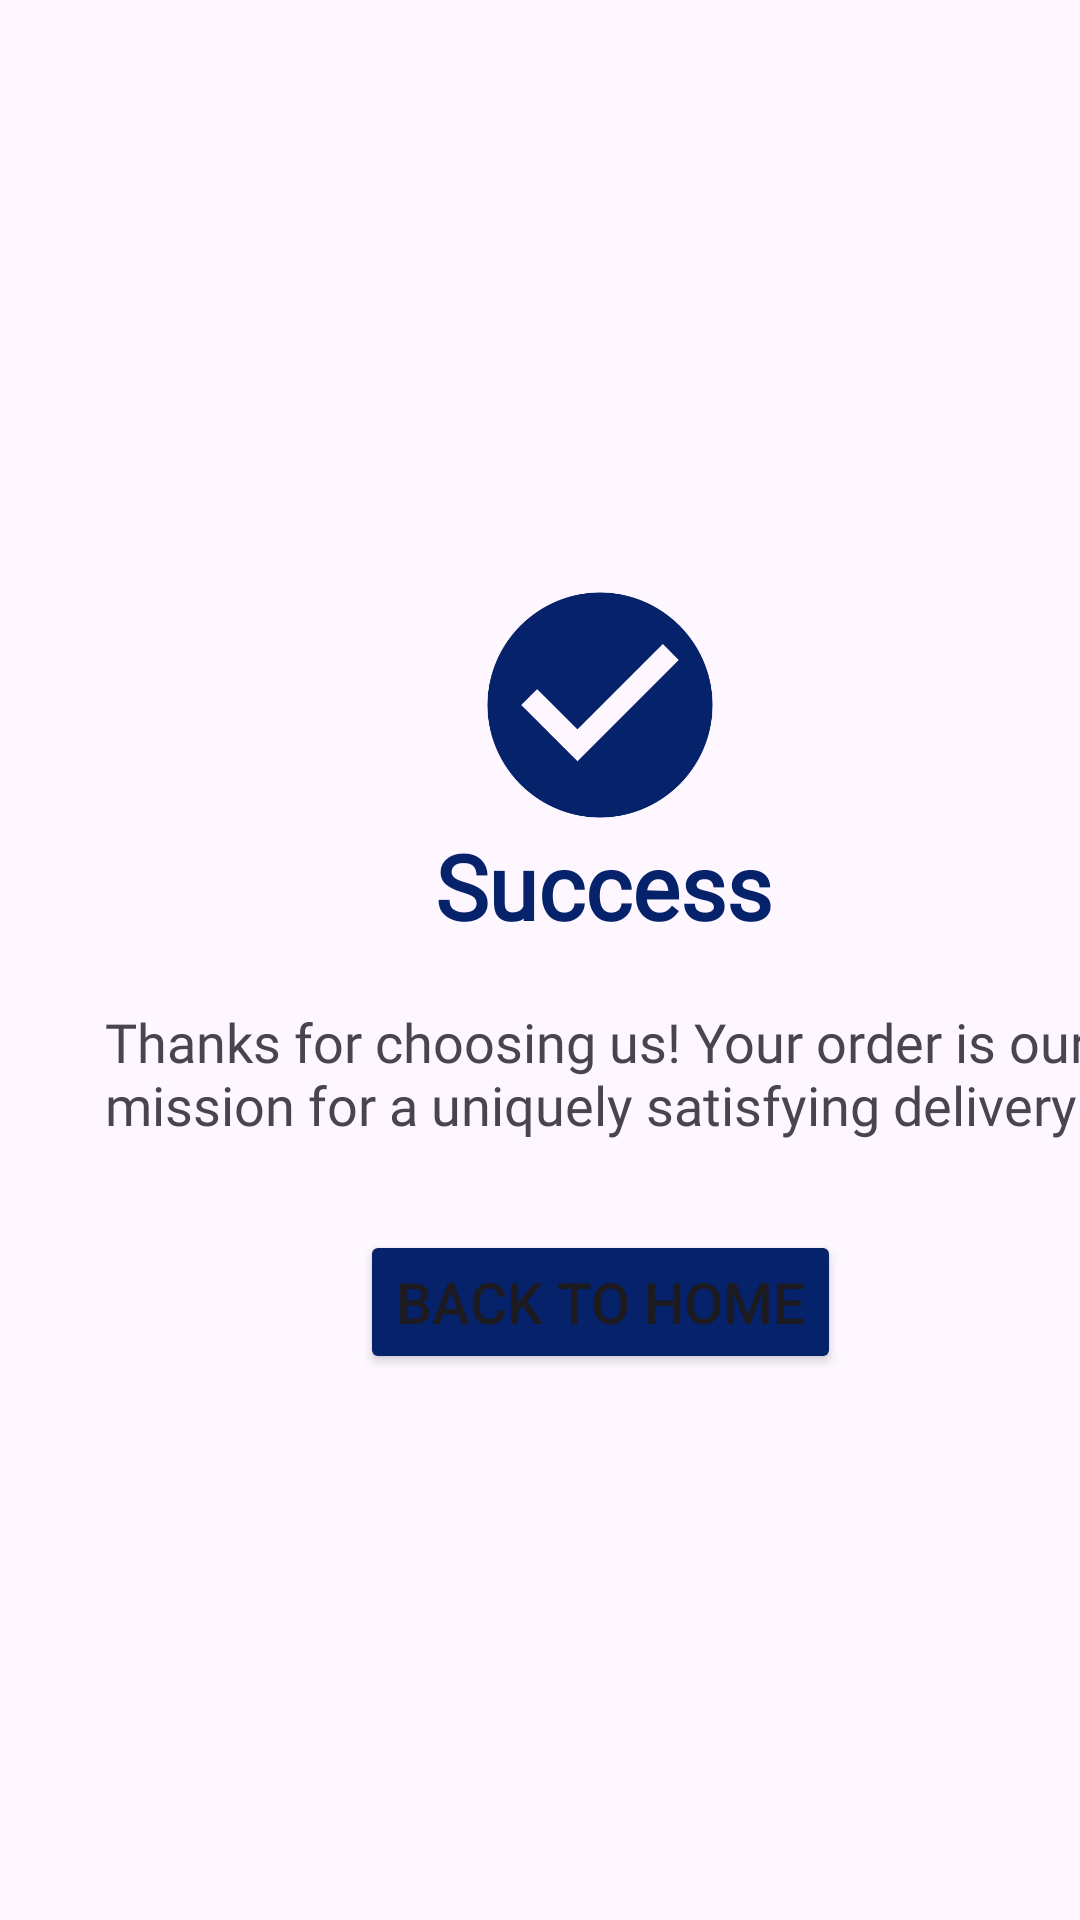

Icon bounding boxes for this 1080w x 1920h phone screenshot, format (x1, y1, x2, y2):
tick: (487, 592, 713, 818)
